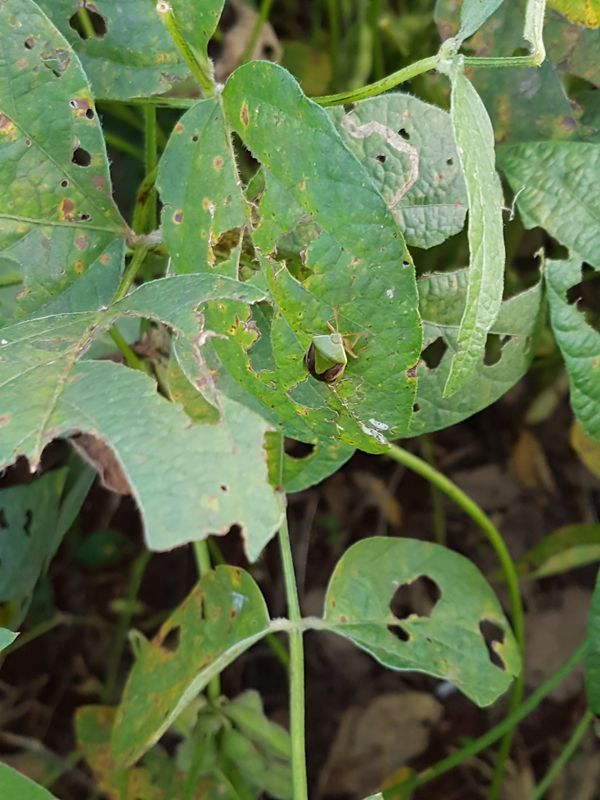Edessa_meditabunda: (294, 302, 367, 393)
